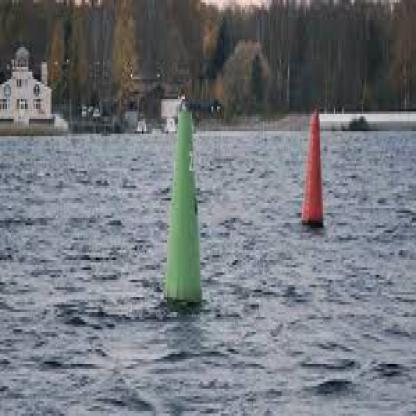Buoy: (160, 104, 204, 307), (298, 105, 327, 232)
